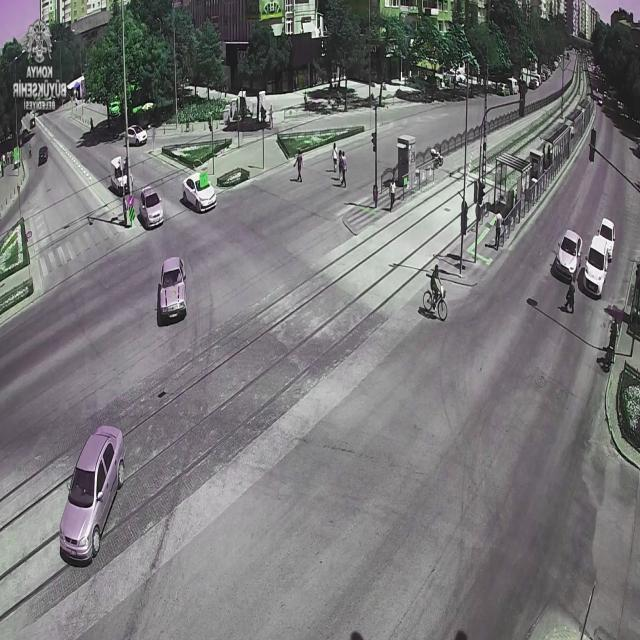Car: (58, 426, 124, 562), (157, 254, 189, 320), (584, 236, 612, 294), (555, 230, 583, 278), (182, 174, 217, 212), (139, 187, 164, 228), (110, 156, 133, 196), (596, 218, 616, 258), (125, 124, 148, 146), (38, 146, 48, 165)
